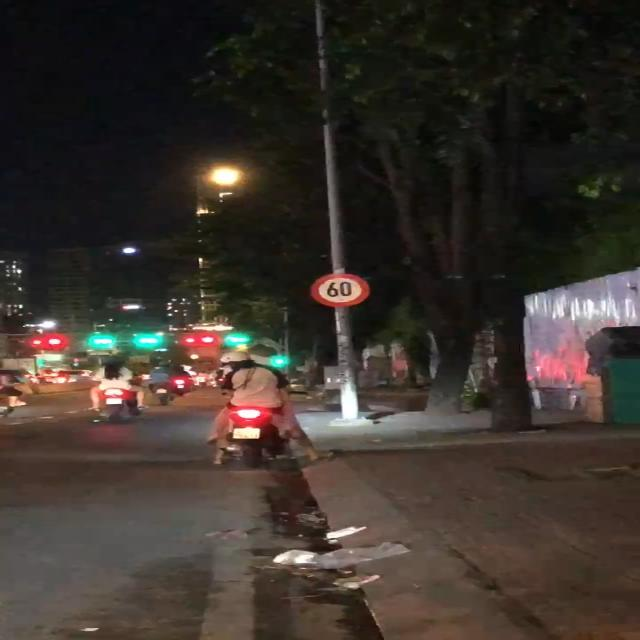Bien bao toc do toi da cho phep: (307, 270, 375, 309)
